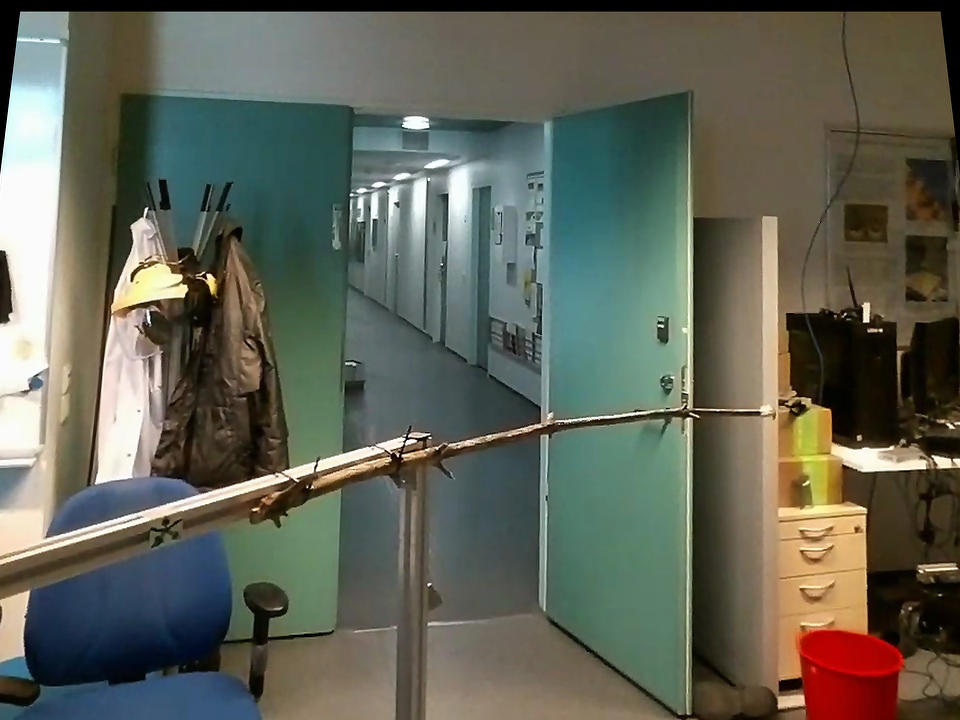branch: (432, 393, 751, 485)
